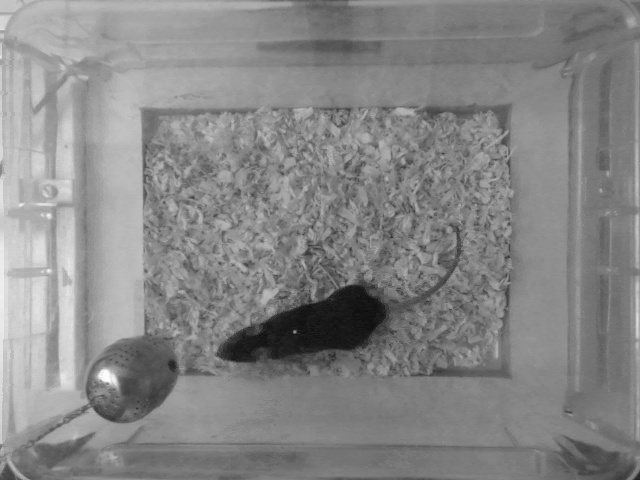mice: (214, 224, 466, 365)
